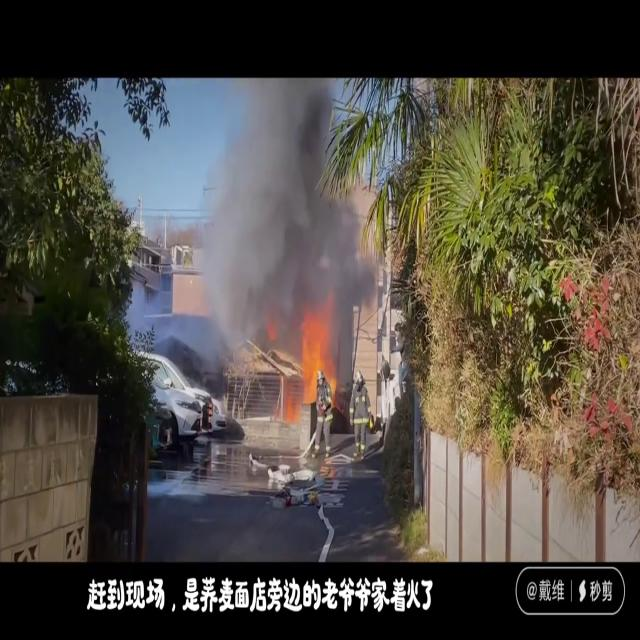Fire: (298, 307, 340, 407)
Smoke: (190, 78, 377, 350)
